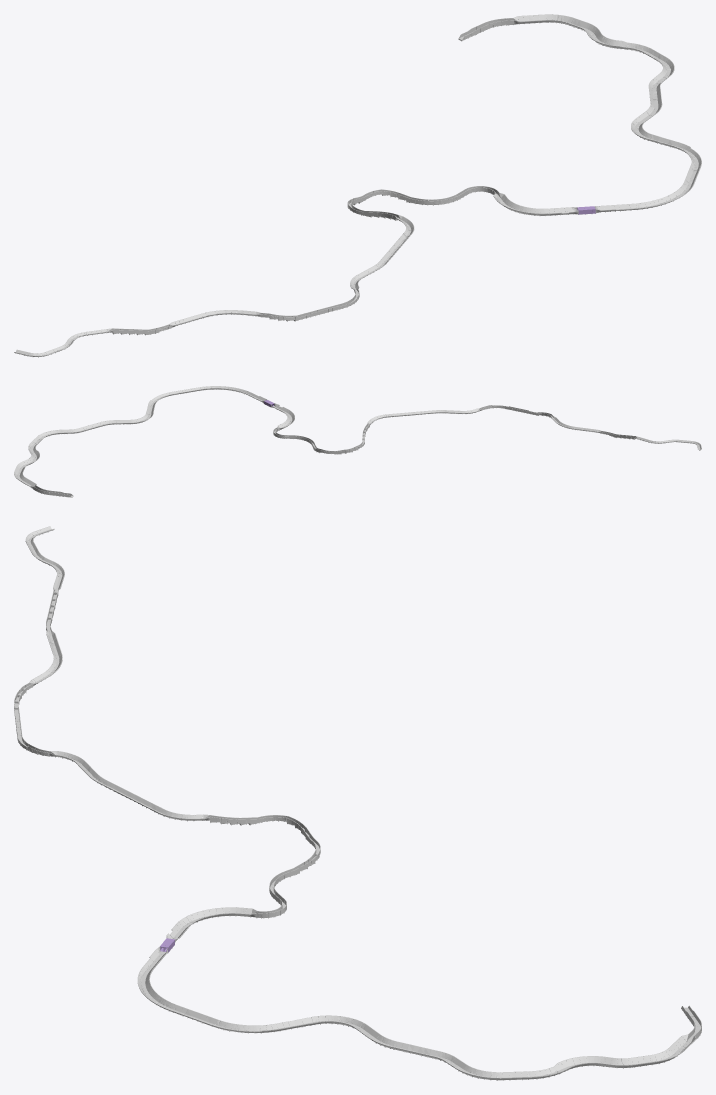
The model's file is 500125-CSSP001-780-XX-MD-ST-000361.glb.
3 views of the same model, one above another, from view 1: azimuth 30°, elevation 25°; view 2: azimuth 150°, elevation 25°; view 3: azimuth 270°, elevation 25° (orthographic). The views are drawn at different scales.
Parts seen in each view (by area): view 1: 500125-CSSP001-780-XX-MD-ST-000361#OTR001; view 2: 500125-CSSP001-780-XX-MD-ST-000361#OTR001; view 3: 500125-CSSP001-780-XX-MD-ST-000361#OTR001.
Part boxes in pixels (x1=…): 500125-CSSP001-780-XX-MD-ST-000361#OTR001: x1=14, y1=14, x2=701, y2=357; 500125-CSSP001-780-XX-MD-ST-000361#OTR001: x1=14, y1=386, x2=701, y2=497; 500125-CSSP001-780-XX-MD-ST-000361#OTR001: x1=14, y1=526, x2=701, y2=1080.
Bounding box in the file's own units: 566 × 35.21 × 333.
